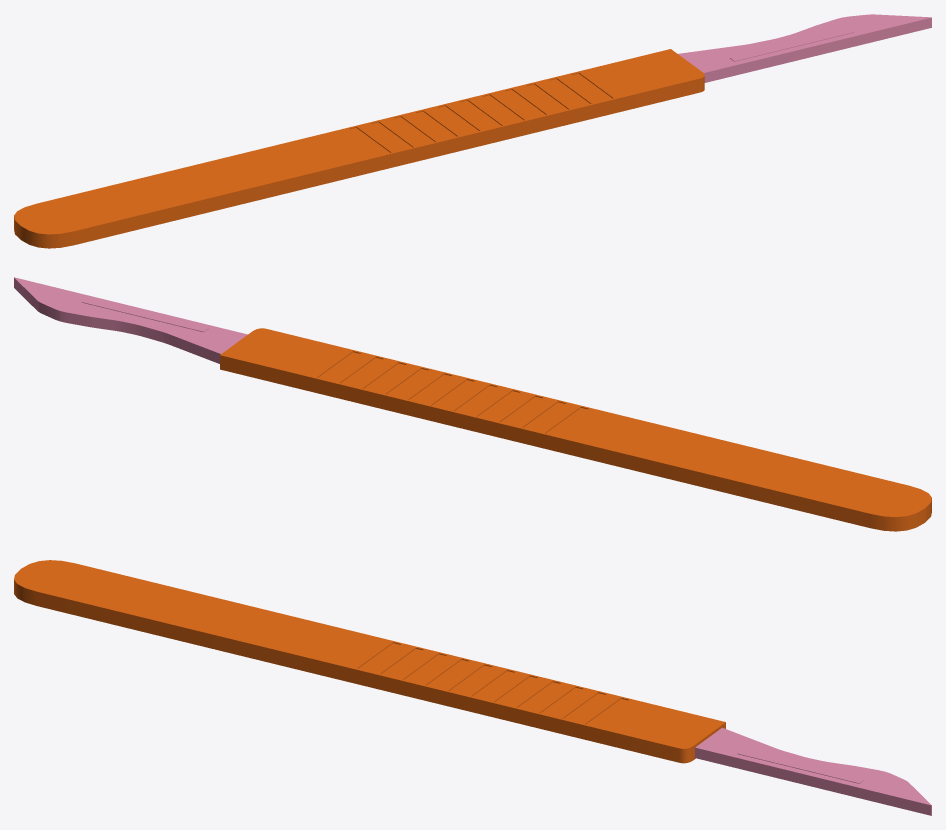
The picture shows the model from 3 angles, top to bottom: view 1: azimuth 30°, elevation 25°; view 2: azimuth 150°, elevation 25°; view 3: azimuth 330°, elevation 25°; orthographic projection. The views are drawn at different scales.
Visible parts, largest first — view 1: Object_4, split_parent_1; view 2: Object_4, split_parent_1; view 3: Object_4, split_parent_1.
Boxes of the visible parts, bbox=[...] form: Object_4: bbox=[14, 49, 704, 248]; split_parent_1: bbox=[678, 14, 931, 82]; Object_4: bbox=[220, 328, 931, 531]; split_parent_1: bbox=[14, 277, 247, 363]; Object_4: bbox=[14, 560, 725, 763]; split_parent_1: bbox=[695, 727, 931, 815].
Bounding box in the file's own units: 1 × 0.0149 × 0.0725.
